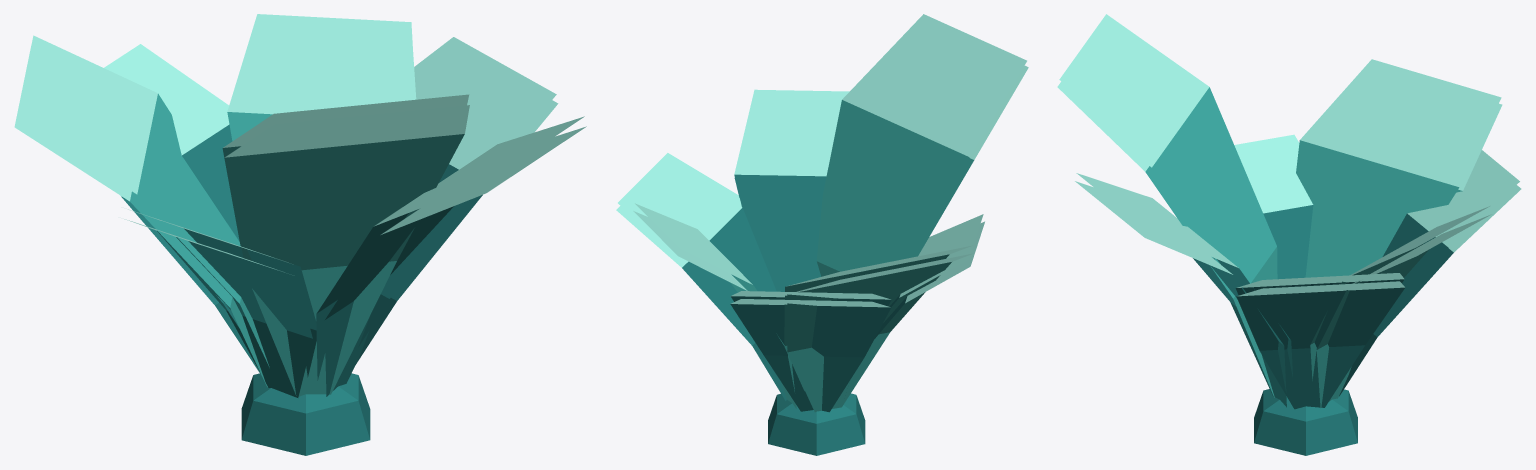
File: plant_fan_teal.fbx
The picture shows the model from 3 angles, left to right: view 1: azimuth 30°, elevation 25°; view 2: azimuth 150°, elevation 25°; view 3: azimuth 270°, elevation 25°; orthographic projection. The views are drawn at different scales.
Parts seen in each view (by area): view 1: plant_fan_teal; view 2: plant_fan_teal; view 3: plant_fan_teal.
Boxes of the visible parts, <box> form: plant_fan_teal: <box>14,14,586,455</box>; plant_fan_teal: <box>616,14,1028,455</box>; plant_fan_teal: <box>1057,14,1521,455</box>.
Size of the model in its own units: 813 by 717 by 850.
1 material, 1 textured.
